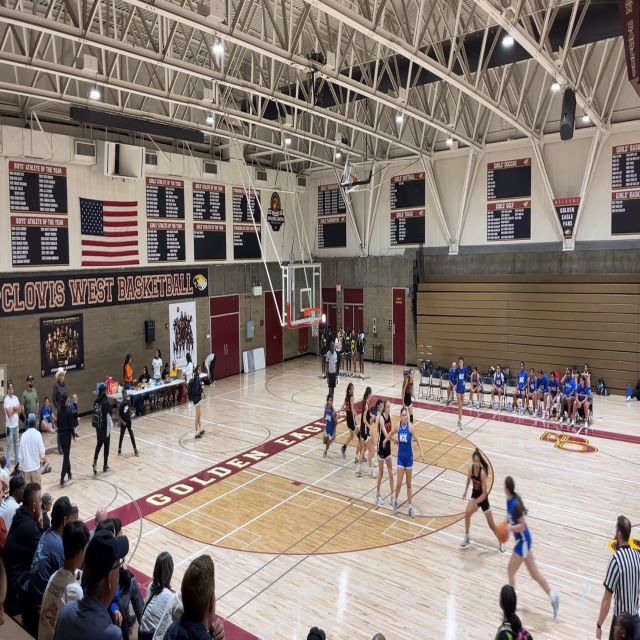Basketball: (495, 522, 509, 543)
